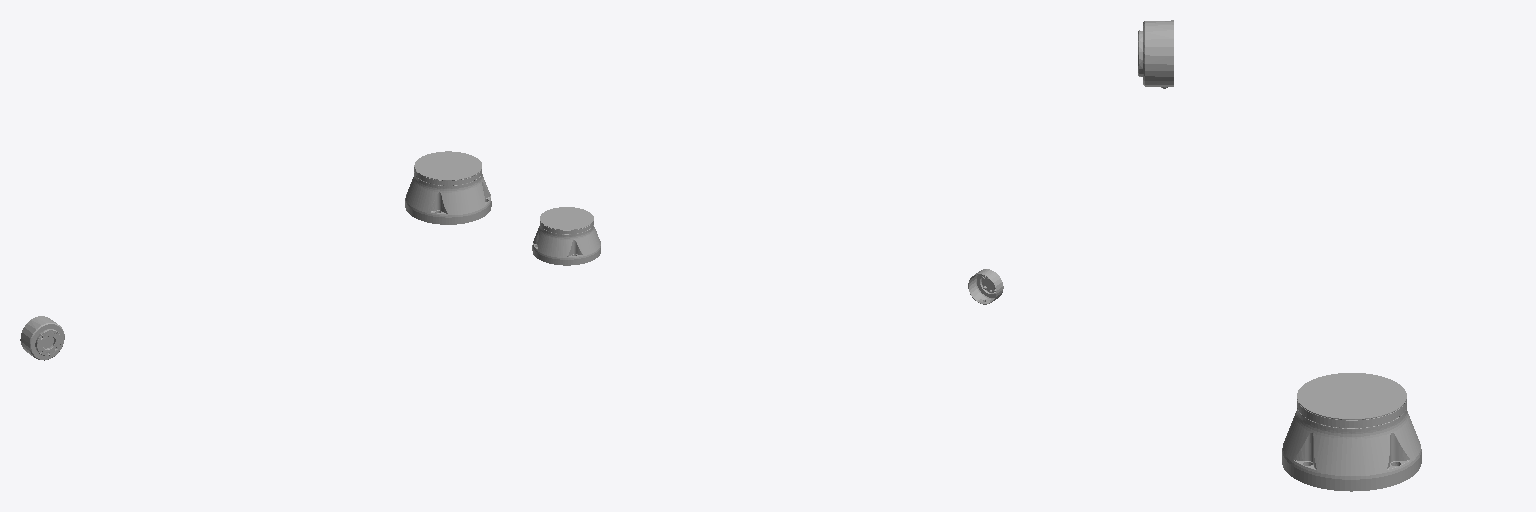
URDF robot description (ur10e):
<?xml version="1.0" ?>
<!-- =================================================================================== -->
<!-- |    This document was autogenerated by xacro from ur10e_robot.urdf.xacro         | -->
<!-- |    EDITING THIS FILE BY HAND IS NOT RECOMMENDED                                 | -->
<!-- =================================================================================== -->
<robot name="ur10e" xmlns:xacro="http://ros.org/wiki/xacro">
  <gazebo>
    <plugin filename="libgazebo_ros_control.so" name="ros_control">
      <!--robotNamespace>/</robotNamespace-->
      <!--robotSimType>gazebo_ros_control/DefaultRobotHWSim</robotSimType-->
    </plugin>
    <!--
    <plugin name="gazebo_ros_power_monitor_controller" filename="libgazebo_ros_power_monitor.so">
      <alwaysOn>true</alwaysOn>
      <updateRate>1.0</updateRate>
      <timeout>5</timeout>
      <powerStateTopic>power_state</powerStateTopic>
      <powerStateRate>10.0</powerStateRate>
      <fullChargeCapacity>87.78</fullChargeCapacity>
      <dischargeRate>-474</dischargeRate>
      <chargeRate>525</chargeRate>
      <dischargeVoltage>15.52</dischargeVoltage>
      <chargeVoltage>16.41</chargeVoltage>
    </plugin>
-->
  </gazebo>
  <!--
  Author: [author]
  Contributers: [author], [author], [author]
-->
  <link name="base_link">
    <visual>
      <geometry>
        <mesh filename="package://ur_e_description/meshes/ur10e/visual/base.obj"/>
      </geometry>
      <material name="LightGrey">
        <color rgba="0.7 0.7 0.7 1.0"/>
      </material>
    </visual>
    <collision>
      <geometry>
        <mesh filename="package://ur_e_description/meshes/ur10e/collision/base.stl"/>
      </geometry>
    </collision>
    <inertial>
      <mass value="4.0"/>
      <origin rpy="0 0 0" xyz="0.0 0.0 0.0"/>
      <inertia ixx="0.0061063308908" ixy="0.0" ixz="0.0" iyy="0.0061063308908" iyz="0.0" izz="0.01125"/>
    </inertial>
  </link>
  <joint name="shoulder_pan_joint" type="revolute">
    <parent link="base_link"/>
    <child link="shoulder_link"/>
    <origin rpy="0.0 0.0 -3.14159265359" xyz="0.0 0.0 0.181"/>
    <axis xyz="0 0 1"/>
    <limit effort="330.0" lower="-6.28318530718" upper="6.28318530718" velocity="3.14"/>
    <dynamics damping="0.0" friction="0.0"/>
  </joint>
  <link name="shoulder_link">
    <visual>
      <geometry>
        <mesh filename="package://ur_e_description/meshes/ur10e/visual/shoulder.obj"/>
      </geometry>
      <material name="LightGrey">
        <color rgba="0.7 0.7 0.7 1.0"/>
      </material>
    </visual>
    <collision>
      <geometry>
        <mesh filename="package://ur_e_description/meshes/ur10e/collision/shoulder.stl"/>
      </geometry>
    </collision>
    <inertial>
      <mass value="7.778"/>
      <origin rpy="0 0 0" xyz="0.0 0.0 0.0"/>
      <inertia ixx="0.0314743125769" ixy="0.0" ixz="0.0" iyy="0.0314743125769" iyz="0.0" izz="0.021875625"/>
    </inertial>
  </link>
  <joint name="shoulder_lift_joint" type="revolute">
    <parent link="shoulder_link"/>
    <child link="upper_arm_link"/>
    <origin rpy="0.0 1.57079632679 0.0" xyz="0.0 0.176 0.0"/>
    <axis xyz="0 1 0"/>
    <limit effort="330.0" lower="-6.28318530718" upper="6.28318530718" velocity="3.14"/>
    <dynamics damping="0.0" friction="0.0"/>
  </joint>
  <link name="upper_arm_link">
    <visual>
      <geometry>
        <mesh filename="package://ur_e_description/meshes/ur10e/visual/upperarm.obj"/>
      </geometry>
      <material name="LightGrey">
        <color rgba="0.7 0.7 0.7 1.0"/>
      </material>
    </visual>
    <collision>
      <geometry>
        <mesh filename="package://ur_e_description/meshes/ur10e/collision/upperarm.stl"/>
      </geometry>
    </collision>
    <inertial>
      <mass value="12.93"/>
      <origin rpy="0 0 0" xyz="0.0 0.0 0.3065"/>
      <inertia ixx="0.42307374077" ixy="0.0" ixz="0.0" iyy="0.42307374077" iyz="0.0" izz="0.036365625"/>
    </inertial>
  </link>
  <joint name="elbow_joint" type="revolute">
    <parent link="upper_arm_link"/>
    <child link="forearm_link"/>
    <origin rpy="0.0 0.0 0.0" xyz="0.0 -0.137 0.613"/>
    <axis xyz="0 1 0"/>
    <limit effort="150.0" lower="-3.14159265359" upper="3.14159265359" velocity="3.14"/>
    <dynamics damping="0.0" friction="0.0"/>
  </joint>
  <link name="forearm_link">
    <visual>
      <geometry>
        <mesh filename="package://ur_e_description/meshes/ur10e/visual/forearm.obj"/>
      </geometry>
      <material name="LightGrey">
        <color rgba="0.7 0.7 0.7 1.0"/>
      </material>
    </visual>
    <collision>
      <geometry>
        <mesh filename="package://ur_e_description/meshes/ur10e/collision/forearm.stl"/>
      </geometry>
    </collision>
    <inertial>
      <mass value="3.87"/>
      <origin rpy="0 0 0" xyz="0.0 0.0 0.2855"/>
      <inertia ixx="0.110590365764" ixy="0.0" ixz="0.0" iyy="0.110590365764" iyz="0.0" izz="0.010884375"/>
    </inertial>
  </link>
  <joint name="wrist_1_joint" type="revolute">
    <parent link="forearm_link"/>
    <child link="wrist_1_link"/>
    <origin rpy="0.0 1.57079632679 0.0" xyz="0.0 0.0 0.571"/>
    <axis xyz="0 1 0"/>
    <limit effort="54.0" lower="-6.28318530718" upper="6.28318530718" velocity="6.28"/>
    <dynamics damping="0.0" friction="0.0"/>
  </joint>
  <link name="wrist_1_link">
    <visual>
      <geometry>
        <mesh filename="package://ur_e_description/meshes/ur10e/visual/wrist1.obj"/>
      </geometry>
      <material name="LightGrey">
        <color rgba="0.7 0.7 0.7 1.0"/>
      </material>
    </visual>
    <collision>
      <geometry>
        <mesh filename="package://ur_e_description/meshes/ur10e/collision/wrist1.stl"/>
      </geometry>
    </collision>
    <inertial>
      <mass value="1.96"/>
      <origin rpy="0 0 0" xyz="0.0 0.135 0.0"/>
      <inertia ixx="0.0051082479567" ixy="0.0" ixz="0.0" iyy="0.0051082479567" iyz="0.0" izz="0.0055125"/>
    </inertial>
  </link>
  <joint name="wrist_2_joint" type="revolute">
    <parent link="wrist_1_link"/>
    <child link="wrist_2_link"/>
    <origin rpy="0.0 0.0 0.0" xyz="0.0 0.135 0.0"/>
    <axis xyz="0 0 1"/>
    <limit effort="54.0" lower="-6.28318530718" upper="6.28318530718" velocity="6.28"/>
    <dynamics damping="0.0" friction="0.0"/>
  </joint>
  <link name="wrist_2_link">
    <visual>
      <geometry>
        <mesh filename="package://ur_e_description/meshes/ur10e/visual/wrist2.obj"/>
      </geometry>
      <material name="LightGrey">
        <color rgba="0.7 0.7 0.7 1.0"/>
      </material>
    </visual>
    <collision>
      <geometry>
        <mesh filename="package://ur_e_description/meshes/ur10e/collision/wrist2.stl"/>
      </geometry>
    </collision>
    <inertial>
      <mass value="1.96"/>
      <origin rpy="0 0 0" xyz="0.0 0.0 0.12"/>
      <inertia ixx="0.0051082479567" ixy="0.0" ixz="0.0" iyy="0.0051082479567" iyz="0.0" izz="0.0055125"/>
    </inertial>
  </link>
  <joint name="wrist_3_joint" type="revolute">
    <parent link="wrist_2_link"/>
    <child link="wrist_3_link"/>
    <origin rpy="0.0 0.0 0.0" xyz="0.0 0.0 0.12"/>
    <axis xyz="0 1 0"/>
    <limit effort="54.0" lower="-6.28318530718" upper="6.28318530718" velocity="6.28"/>
    <dynamics damping="0.0" friction="0.0"/>
  </joint>
  <link name="wrist_3_link">
    <visual>
      <geometry>
        <mesh filename="package://ur_e_description/meshes/ur10e/visual/wrist3.obj"/>
      </geometry>
      <material name="LightGrey">
        <color rgba="0.7 0.7 0.7 1.0"/>
      </material>
    </visual>
    <collision>
      <geometry>
        <mesh filename="package://ur_e_description/meshes/ur10e/collision/wrist3.stl"/>
      </geometry>
    </collision>
    <inertial>
      <mass value="0.202"/>
      <origin rpy="1.57079632679 0 0" xyz="0.0 0.092 0.0"/>
      <inertia ixx="0.000144345775595" ixy="0.0" ixz="0.0" iyy="0.000144345775595" iyz="0.0" izz="0.000204525"/>
    </inertial>
  </link>
  <joint name="ee_fixed_joint" type="fixed">
    <parent link="wrist_3_link"/>
    <child link="ee_link"/>
    <origin rpy="-1.57079632679 0.0 0.0" xyz="0.0 0.117 0.0"/>
  </joint>
  <link name="ee_link">
    <collision>
      <geometry>
        <box size="0.01 0.01 0.01"/>
      </geometry>
      <origin rpy="0 0 0" xyz="-0.01 0 0"/>
    </collision>
  </link>
  <transmission name="shoulder_pan_trans">
    <type>transmission_interface/SimpleTransmission</type>
    <joint name="shoulder_pan_joint">
      <hardwareInterface>hardware_interface/PositionJointInterface</hardwareInterface>
    </joint>
    <actuator name="shoulder_pan_motor">
      <mechanicalReduction>1</mechanicalReduction>
    </actuator>
  </transmission>
  <transmission name="shoulder_lift_trans">
    <type>transmission_interface/SimpleTransmission</type>
    <joint name="shoulder_lift_joint">
      <hardwareInterface>hardware_interface/PositionJointInterface</hardwareInterface>
    </joint>
    <actuator name="shoulder_lift_motor">
      <mechanicalReduction>1</mechanicalReduction>
    </actuator>
  </transmission>
  <transmission name="elbow_trans">
    <type>transmission_interface/SimpleTransmission</type>
    <joint name="elbow_joint">
      <hardwareInterface>hardware_interface/PositionJointInterface</hardwareInterface>
    </joint>
    <actuator name="elbow_motor">
      <mechanicalReduction>1</mechanicalReduction>
    </actuator>
  </transmission>
  <transmission name="wrist_1_trans">
    <type>transmission_interface/SimpleTransmission</type>
    <joint name="wrist_1_joint">
      <hardwareInterface>hardware_interface/PositionJointInterface</hardwareInterface>
    </joint>
    <actuator name="wrist_1_motor">
      <mechanicalReduction>1</mechanicalReduction>
    </actuator>
  </transmission>
  <transmission name="wrist_2_trans">
    <type>transmission_interface/SimpleTransmission</type>
    <joint name="wrist_2_joint">
      <hardwareInterface>hardware_interface/PositionJointInterface</hardwareInterface>
    </joint>
    <actuator name="wrist_2_motor">
      <mechanicalReduction>1</mechanicalReduction>
    </actuator>
  </transmission>
  <transmission name="wrist_3_trans">
    <type>transmission_interface/SimpleTransmission</type>
    <joint name="wrist_3_joint">
      <hardwareInterface>hardware_interface/PositionJointInterface</hardwareInterface>
    </joint>
    <actuator name="wrist_3_motor">
      <mechanicalReduction>1</mechanicalReduction>
    </actuator>
  </transmission>
  <gazebo reference="shoulder_link">
    <selfCollide>true</selfCollide>
  </gazebo>
  <gazebo reference="upper_arm_link">
    <selfCollide>true</selfCollide>
  </gazebo>
  <gazebo reference="forearm_link">
    <selfCollide>true</selfCollide>
  </gazebo>
  <gazebo reference="wrist_1_link">
    <selfCollide>true</selfCollide>
  </gazebo>
  <gazebo reference="wrist_3_link">
    <selfCollide>true</selfCollide>
  </gazebo>
  <gazebo reference="wrist_2_link">
    <selfCollide>true</selfCollide>
  </gazebo>
  <gazebo reference="ee_link">
    <selfCollide>true</selfCollide>
  </gazebo>
  <!-- ROS base_link to UR 'Base' Coordinates transform -->
  <link name="base"/>
  <joint name="base_link-base_fixed_joint" type="fixed">
    <!-- NOTE: this rotation is only needed as long as base_link itself is
                 not corrected wrt the real robot (ie: rotated over 180
                 degrees)
      -->
    <origin rpy="0 0 -3.14159265359" xyz="0 0 0"/>
    <parent link="base_link"/>
    <child link="base"/>
  </joint>
  <!-- Frame coincident with all-zeros TCP on UR controller -->
  <link name="tool0"/>
  <joint name="wrist_3_link-tool0_fixed_joint" type="fixed">
    <origin rpy="-1.57079632679 0 0" xyz="0 0.117 0"/>
    <parent link="wrist_3_link"/>
    <child link="tool0"/>
  </joint>
  <link name="world"/>
  <joint name="world_joint" type="fixed">
    <parent link="world"/>
    <child link="base_link"/>
    <origin rpy="0.0 0.0 0.0" xyz="0.0 0.0 0.0"/>
  </joint>
</robot>

--- Facts derived from the render (not from the file) ---
3 views of the same robot in one strip: view 1: azimuth 30°, elevation 25°; view 2: azimuth 150°, elevation 25°; view 3: azimuth 270°, elevation 25° (orthographic).
Model ur10e with 11 links and 10 joints (6 revolute, 4 fixed), rooted at world, posed every joint at zero.
Visible links, largest first — view 1: base_link, wrist_3_link; view 2: base_link, wrist_3_link; view 3: base_link, wrist_3_link.
Boxes of the visible links, x1,y1,x2,y2 form: base_link: (405,151,491,224); wrist_3_link: (20,316,64,360); base_link: (532,207,600,265); wrist_3_link: (968,269,1003,304); base_link: (1282,373,1421,491); wrist_3_link: (1138,20,1173,88).
Size in the robot's own frame: 1.32 by 0.3857 by 0.1065 metres.
Meshes: 7 distinct files referenced, 2 mesh visuals loaded (2 OBJ); not drawn: 5 (reference not matched to a file when rendering).